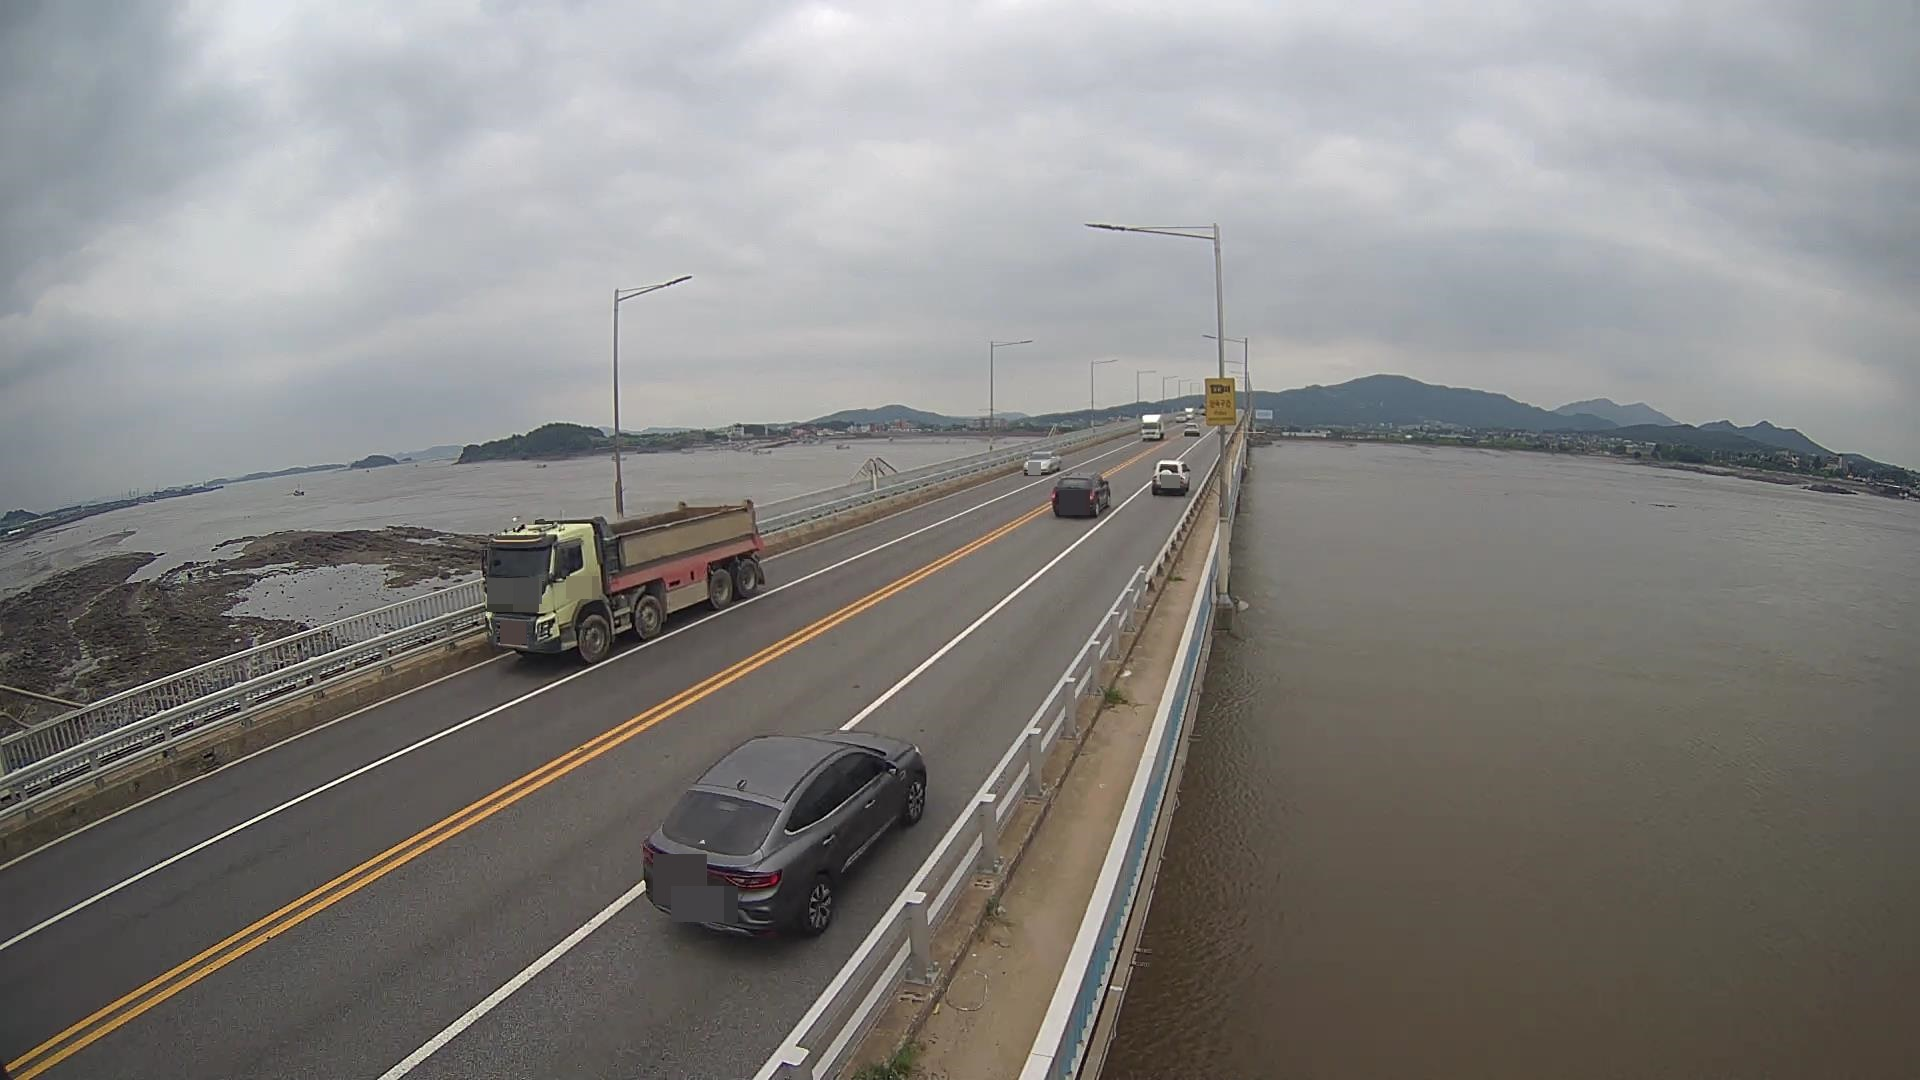정상차량: (481, 498, 765, 663)
